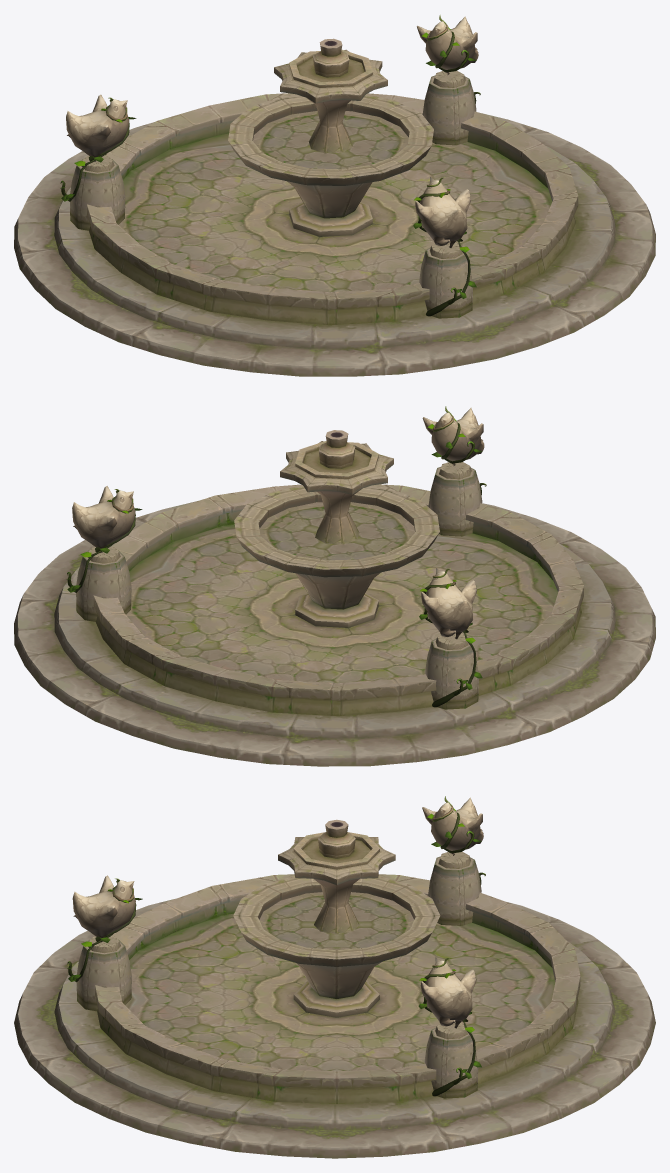
The model's file is school_wj014_01.FBX.
The picture shows the model from 3 angles, top to bottom: view 1: azimuth 30°, elevation 25°; view 2: azimuth 150°, elevation 25°; view 3: azimuth 270°, elevation 25°; orthographic projection.
Parts seen in each view (by area): view 1: school_wj014_01; view 2: school_wj014_01; view 3: school_wj014_01.
Boxes of the visible parts, x1,y1,x2,y2 form: school_wj014_01: [14, 15, 655, 376]; school_wj014_01: [14, 406, 655, 766]; school_wj014_01: [14, 796, 655, 1158].
Size of the model in its own units: 642 by 217 by 642.
3 materials, 3 textured.
